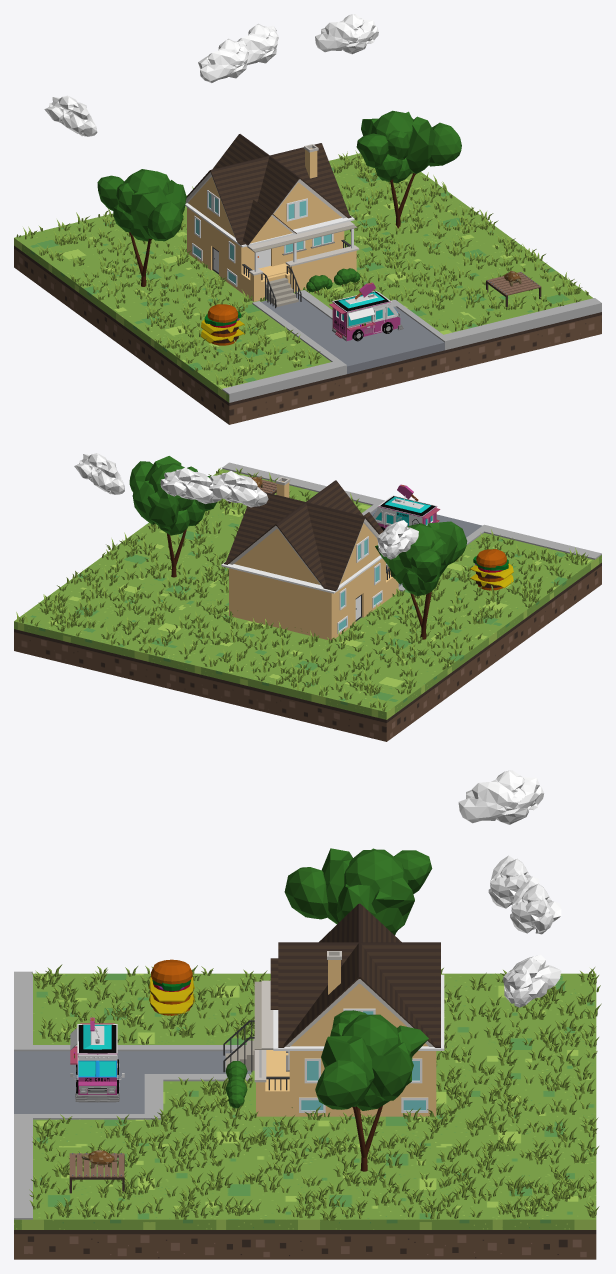
3 renders of one model, top to bottom at view 1: azimuth 30°, elevation 25°; view 2: azimuth 150°, elevation 25°; view 3: azimuth 270°, elevation 25°, orthographic. The views are drawn at different scales.
Parts seen in each view (by area): view 1: Cube.006, Cube.235, Circle.012_Grass_0.192, Cube.007, tree, tree.001, VEHICLES_ICE_CREAM_TRUCK, OBJRANDOM_HAMBURGER, Cube.009; view 2: Cube.006, Cube.235, Circle.012_Grass_0.192, Cube.007, tree.001, tree, VEHICLES_ICE_CREAM_TRUCK, OBJRANDOM_HAMBURGER; view 3: Cube.006, Circle.012_Grass_0.192, Cube.235, tree, Cube.007, tree.001, VEHICLES_ICE_CREAM_TRUCK, OBJRANDOM_HAMBURGER, Cube.009.
Boxes of the visible parts, bbox=[...] form: Cube.006: bbox=[14, 153, 601, 424]; Cube.235: bbox=[185, 134, 359, 308]; Circle.012_Grass_0.192: bbox=[16, 150, 588, 386]; Cube.007: bbox=[44, 14, 378, 136]; tree: bbox=[356, 110, 461, 228]; tree.001: bbox=[97, 169, 186, 286]; VEHICLES_ICE_CREAM_TRUCK: bbox=[329, 282, 403, 341]; OBJRANDOM_HAMBURGER: bbox=[201, 304, 244, 345]; Cube.009: bbox=[486, 272, 541, 306]; Cube.006: bbox=[14, 462, 601, 741]; Cube.235: bbox=[221, 477, 398, 640]; Circle.012_Grass_0.192: bbox=[16, 468, 588, 711]; Cube.007: bbox=[74, 453, 418, 559]; tree.001: bbox=[375, 521, 467, 639]; tree: bbox=[129, 456, 216, 577]; VEHICLES_ICE_CREAM_TRUCK: bbox=[372, 484, 440, 530]; OBJRANDOM_HAMBURGER: bbox=[469, 549, 513, 590]; Cube.006: bbox=[14, 971, 596, 1259]; Circle.012_Grass_0.192: bbox=[29, 964, 601, 1220]; Cube.235: bbox=[223, 903, 444, 1116]; tree: bbox=[315, 1010, 428, 1171]; Cube.007: bbox=[458, 770, 561, 1007]; tree.001: bbox=[284, 848, 432, 935]; VEHICLES_ICE_CREAM_TRUCK: bbox=[70, 1017, 124, 1102]; OBJRANDOM_HAMBURGER: bbox=[149, 959, 194, 1015]; Cube.009: bbox=[69, 1153, 124, 1193].
Size of the model in its own units: 4071 by 2277 by 4040.
47 materials, 3 textured.
